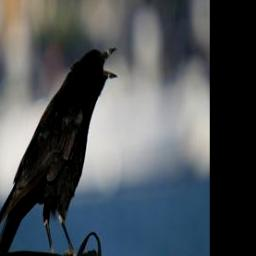Crow: (0, 42, 119, 256)
